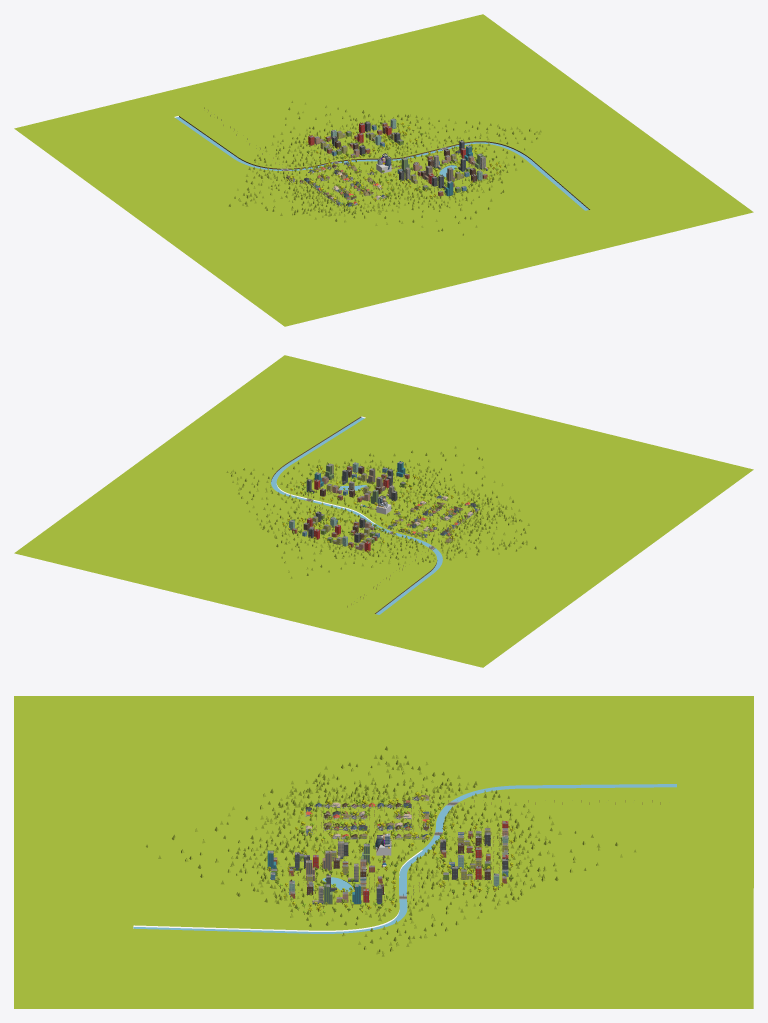
The picture shows the model from 3 angles, top to bottom: view 1: azimuth 30°, elevation 25°; view 2: azimuth 150°, elevation 25°; view 3: azimuth 270°, elevation 25°; orthographic projection. The views are drawn at different scales.
Parts seen in each view (by area): view 1: ground; view 2: ground; view 3: ground.
Boxes of the visible parts, box(x1,y1,x2,y2) form: ground: box(14, 14, 753, 326); ground: box(14, 355, 753, 667); ground: box(14, 696, 753, 1008).
Bounding box in the file's own units: 185 × 6.08 × 185.
51 materials, 40 textured.
